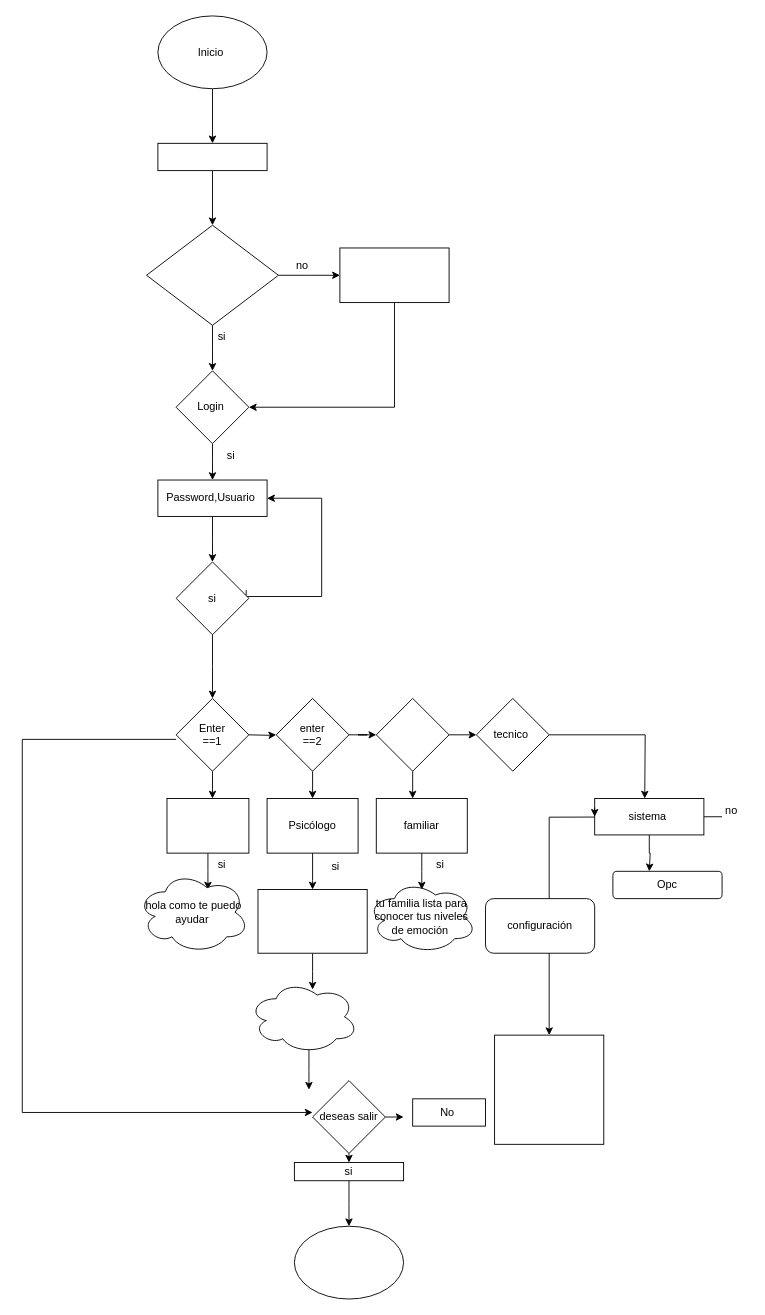
This 765x1315 diagram has some shape labels left out. The centre of each missing label's shape, as x and y in pixels:
".Cambiar contraseña .Proteger cuenta .Vincular cuenta .Recuperar contraseña" goes at (549,1089).
"Cuenta" goes at (212,156).
"Cuenta si existe" goes at (212,274).
"enter ==3" goes at (412,734).
"Fin" goes at (348,1262).
"programar cita hora==hora día==día mes ==mes" goes at (312,921).
"Páciente" goes at (207,825).
"Registro" goes at (394,275).
"tu cita esta programada alas 5" goes at (303,1016).
